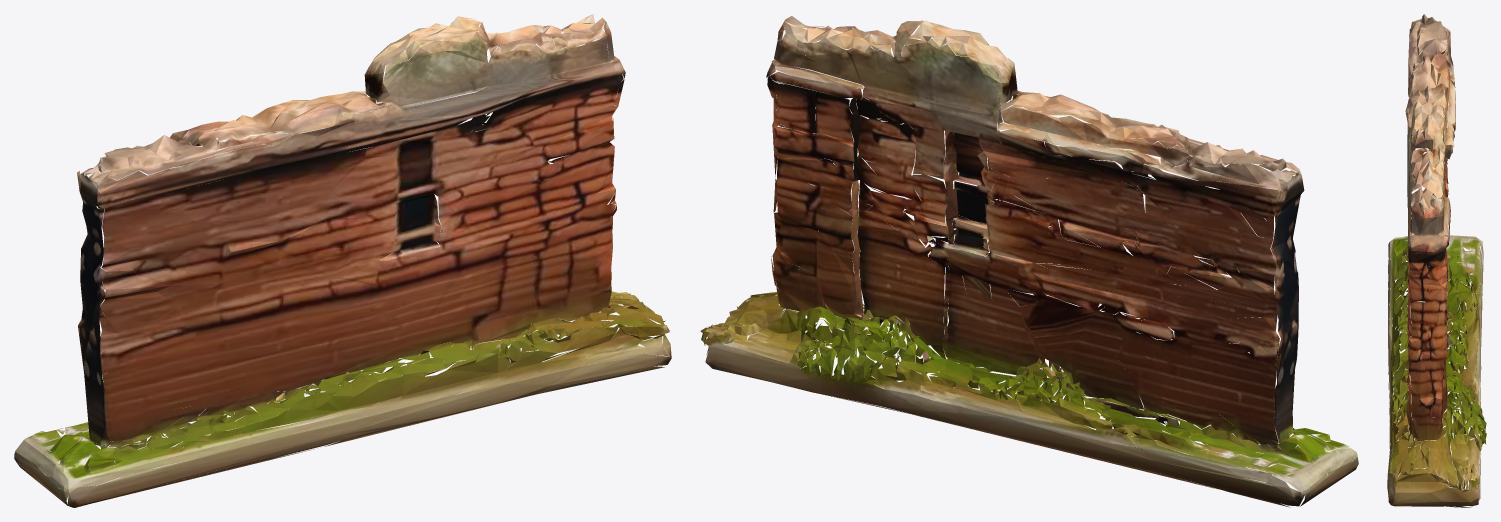
File: ruined-brick-wall.glb
The picture shows the model from 3 angles, left to right: view 1: azimuth 30°, elevation 25°; view 2: azimuth 150°, elevation 25°; view 3: azimuth 270°, elevation 25°; orthographic projection. The views are drawn at different scales.
Parts seen in each view (by area): view 1: tmp2t8ra5ot.ply; view 2: tmp2t8ra5ot.ply; view 3: tmp2t8ra5ot.ply.
Part boxes in pixels (bbox=[...]): tmp2t8ra5ot.ply: bbox=[14, 14, 671, 507]; tmp2t8ra5ot.ply: bbox=[700, 16, 1358, 507]; tmp2t8ra5ot.ply: bbox=[1387, 14, 1486, 507].
Bounding box in the file's own units: 6 × 3.5 × 1.
Materials: 1 (1 with a texture image).
